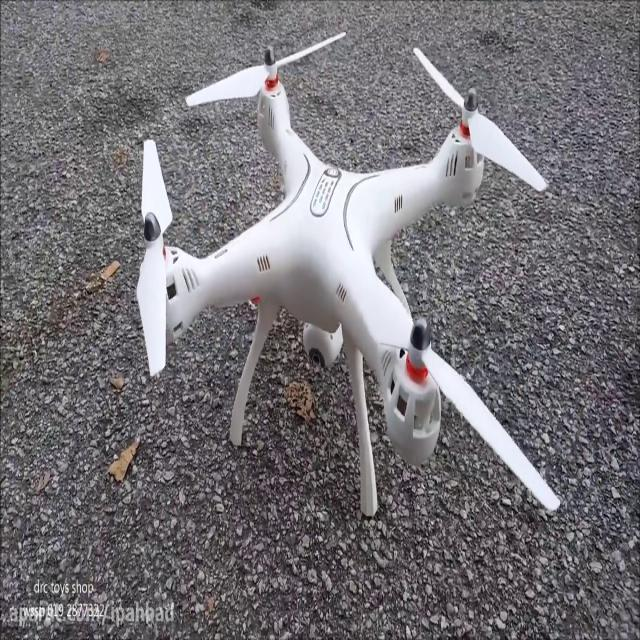drone: (132, 25, 568, 520)
